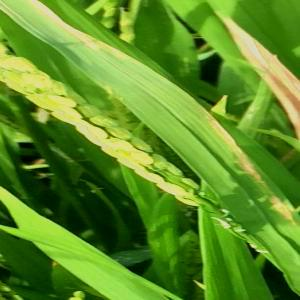2 BacterialBlight: (175, 97, 293, 242)
